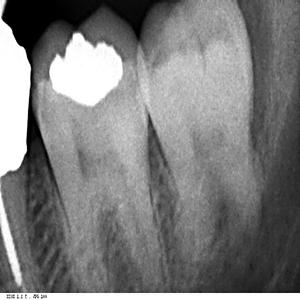tooth: (32, 15, 152, 283), (147, 3, 255, 264)
